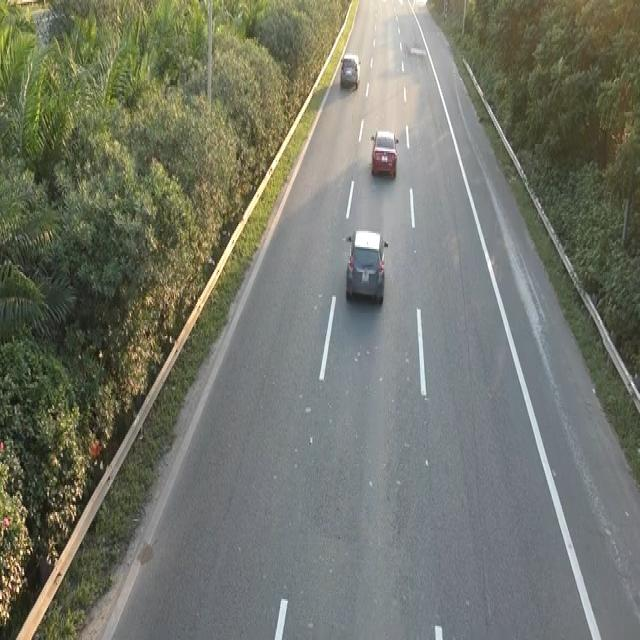bus: (369, 126, 399, 178)
car: (339, 50, 361, 89)
lorry: (342, 224, 390, 311)
